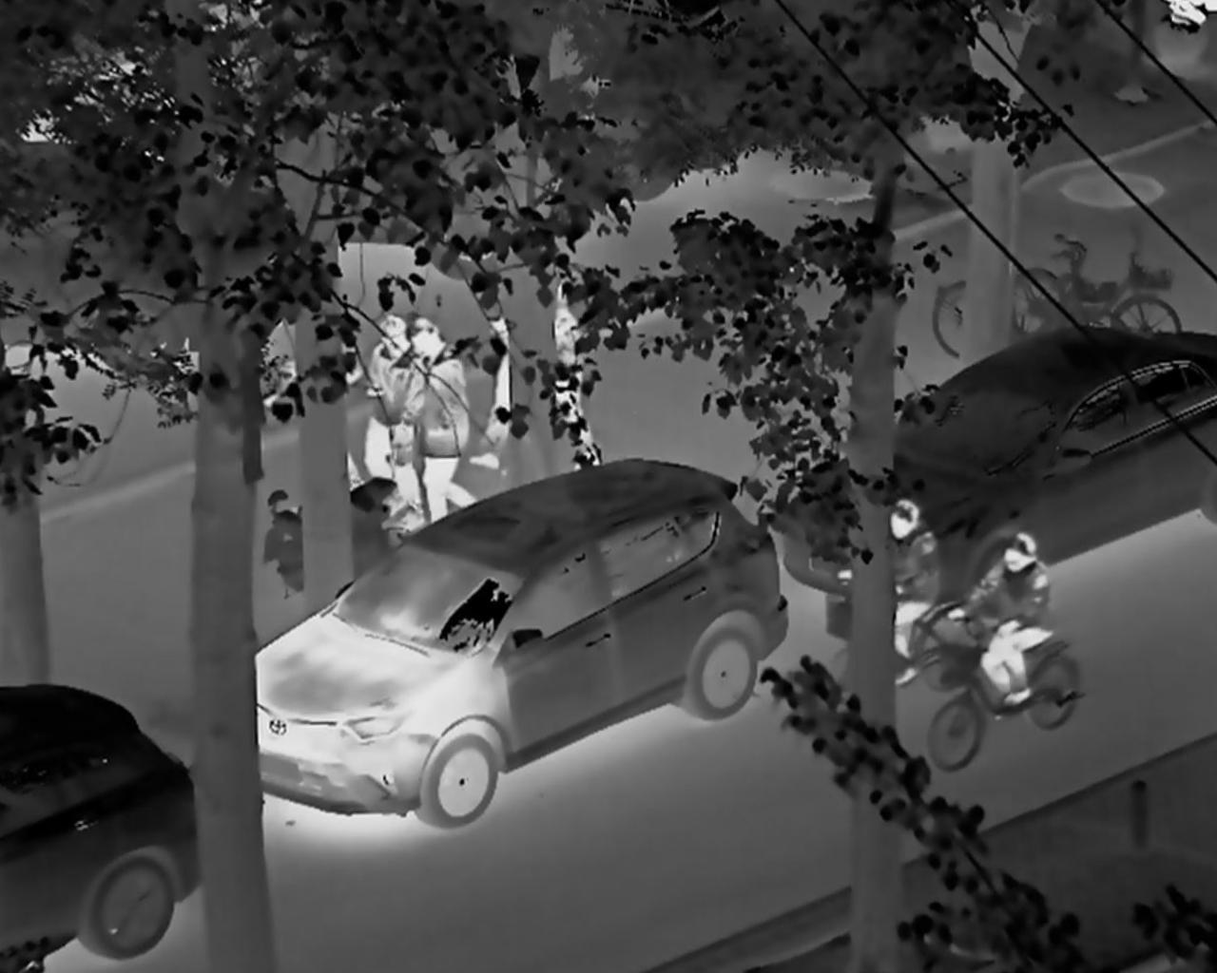person: (348, 311, 434, 536), (971, 527, 1063, 731), (412, 317, 483, 536), (875, 501, 944, 702), (550, 279, 596, 480)
